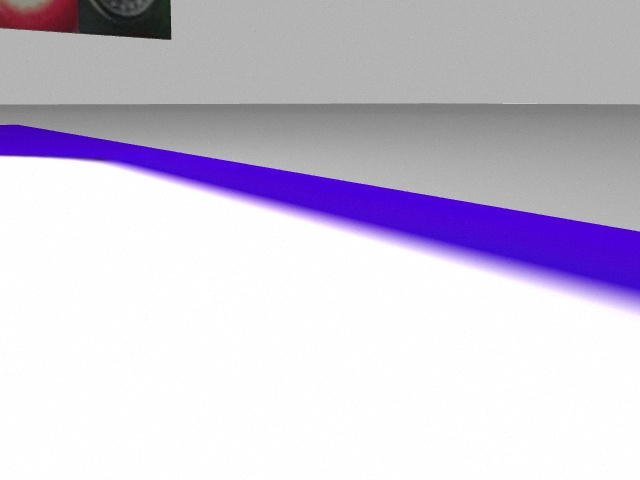red: (1, 1, 78, 34)
